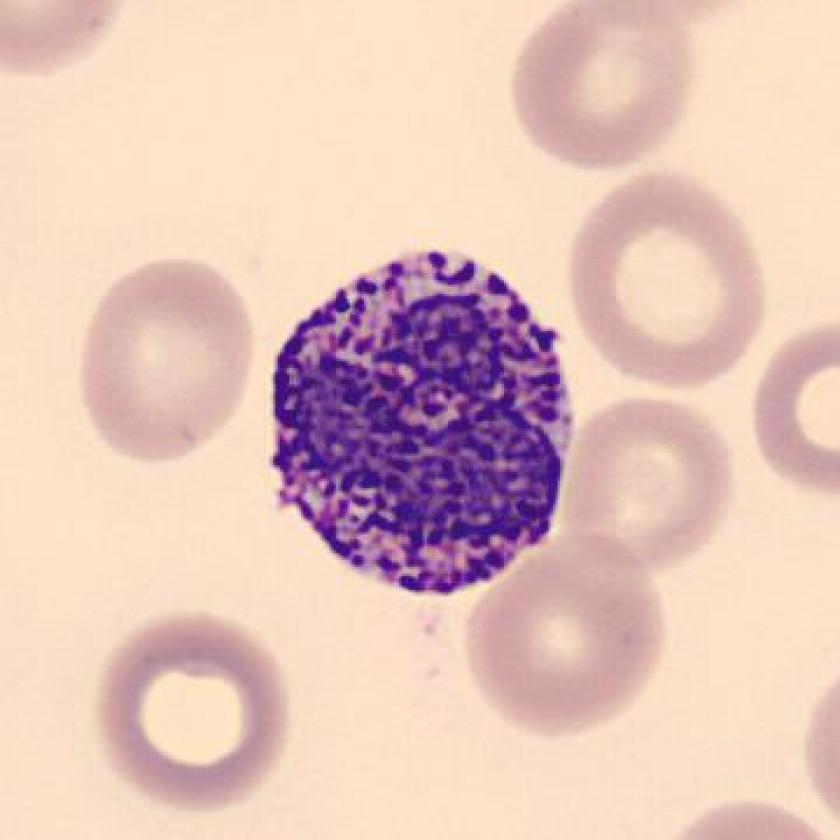basophil: (251, 242, 580, 600)
